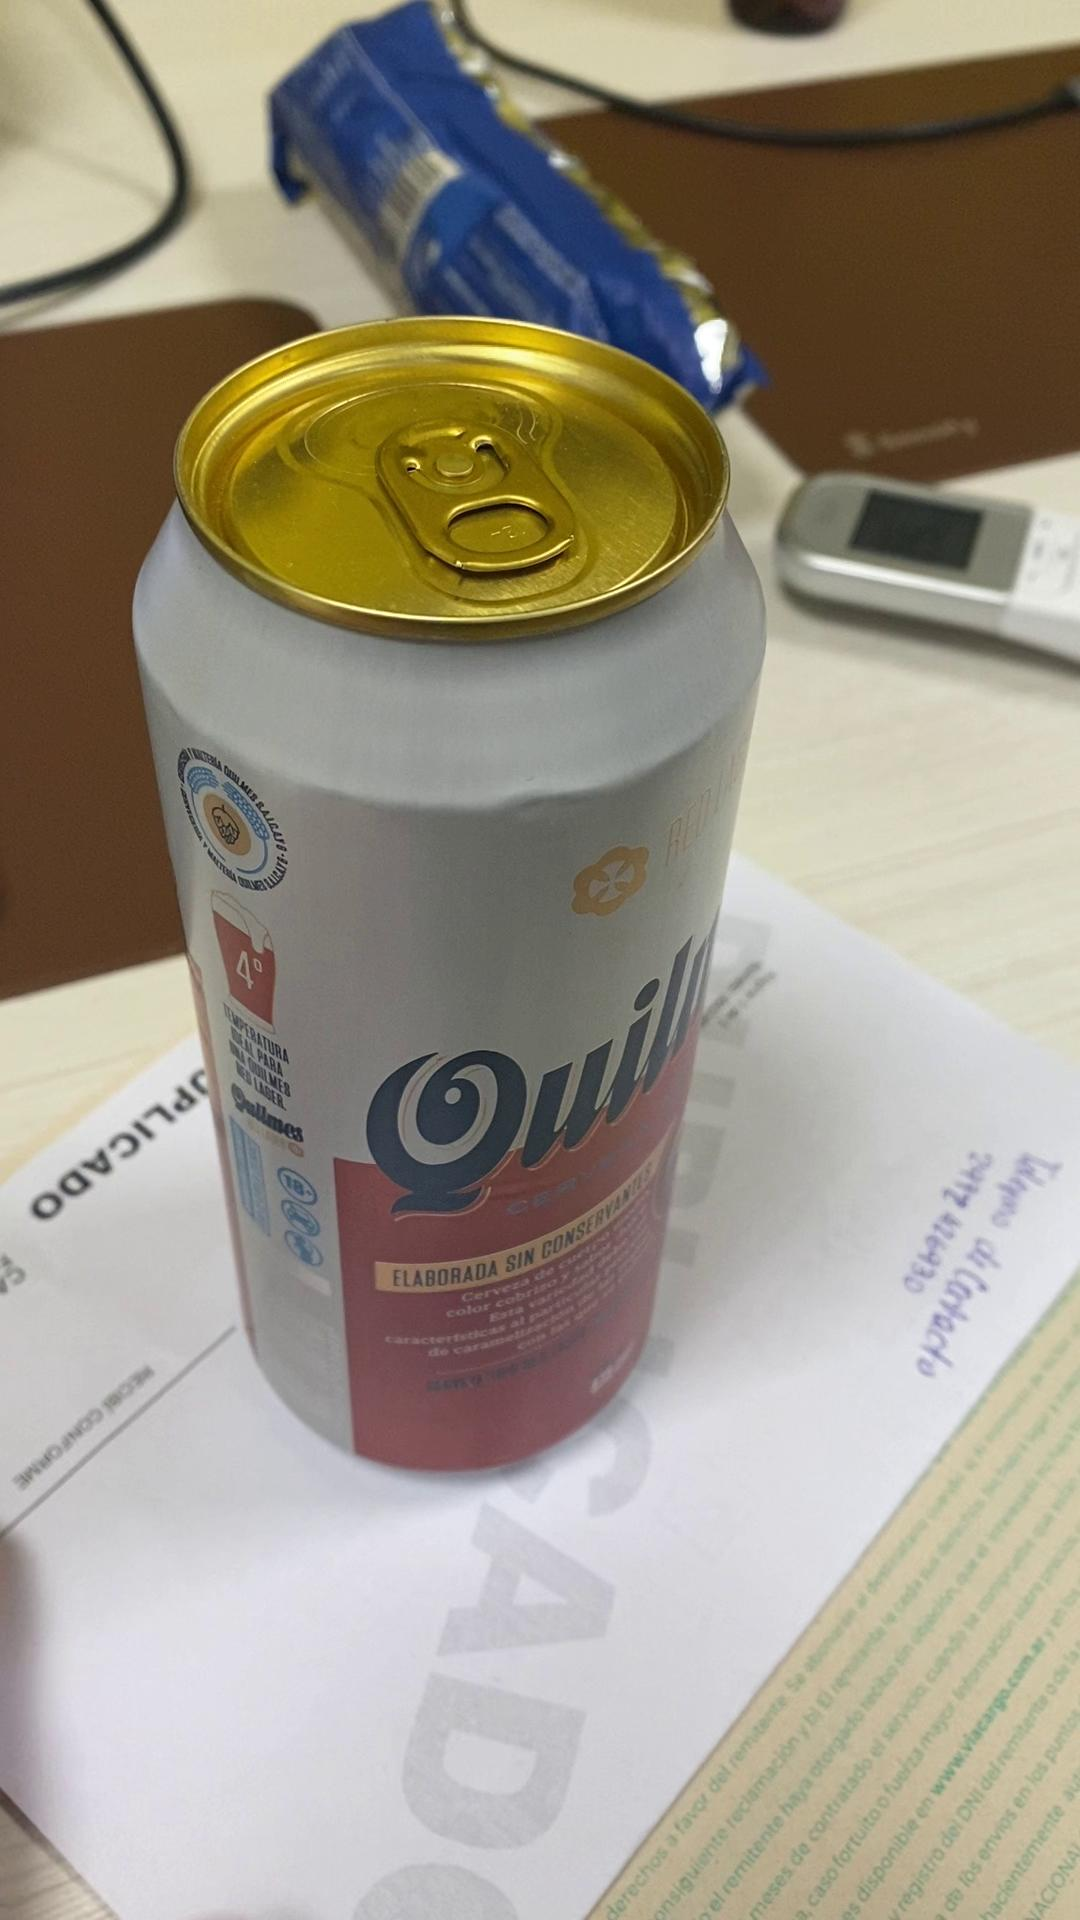metal: (135, 318, 764, 1469), (269, 0, 765, 410)
